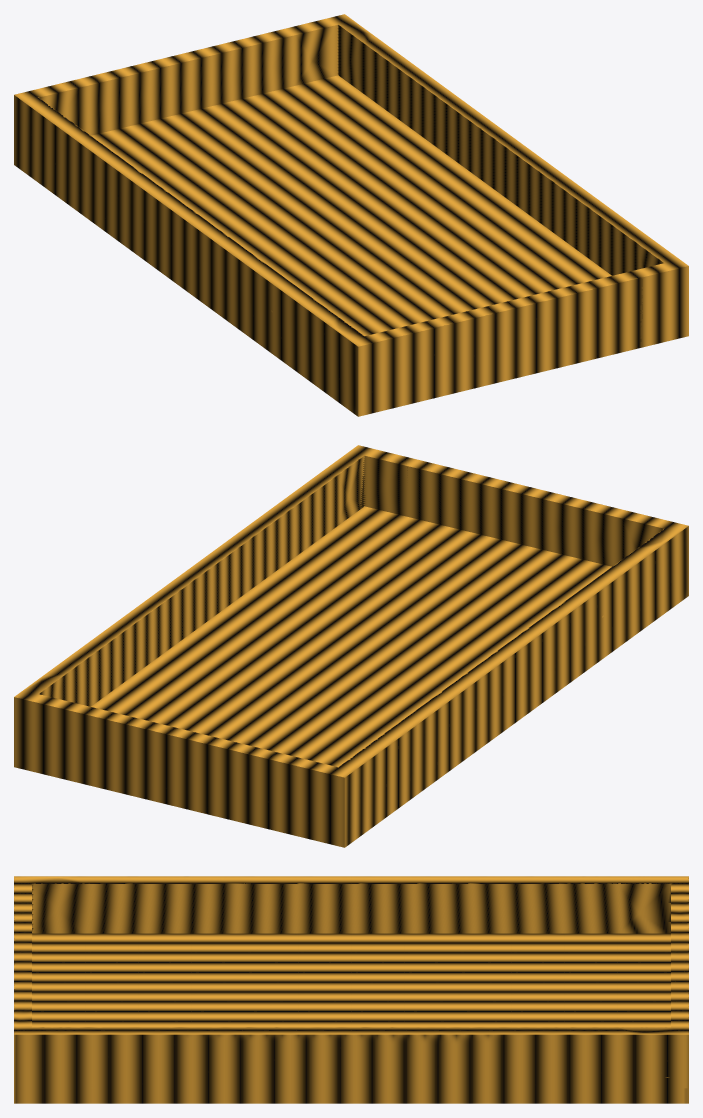
Rendered from table.obj.
3 renders of one model, top to bottom at view 1: azimuth 30°, elevation 25°; view 2: azimuth 150°, elevation 25°; view 3: azimuth 270°, elevation 25°, orthographic.
Visible parts, largest first — view 1: Board_Cube.001; view 2: Board_Cube.001; view 3: Board_Cube.001.
Boxes of the visible parts, x1,y1,x2,y2 form: Board_Cube.001: (14, 14, 688, 416); Board_Cube.001: (14, 445, 688, 847); Board_Cube.001: (14, 876, 688, 1103).
Bounding box in the file's own units: 4.5 × 0.9106 × 8.11.
1 material, 1 textured.
